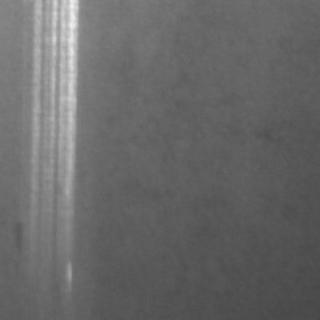scratches: (28, 0, 78, 288)
